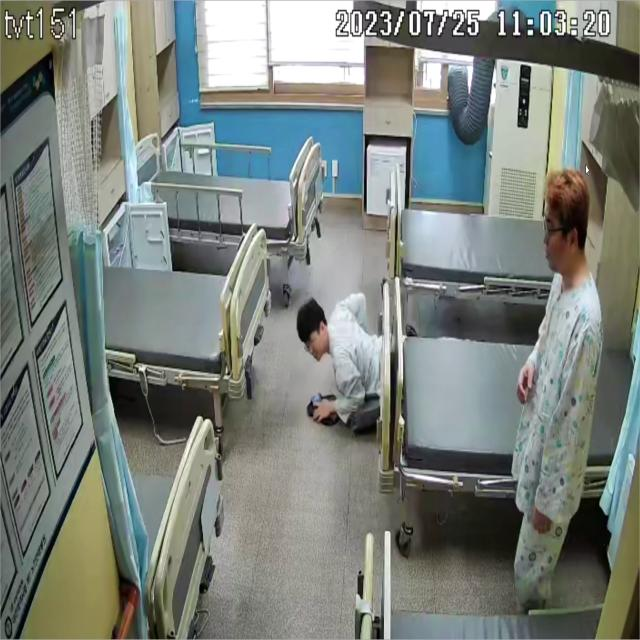bed: (377, 275, 629, 498), (387, 154, 573, 310), (107, 227, 270, 393), (152, 142, 320, 257)
fall: (288, 295, 397, 426)
patient: (516, 172, 602, 608), (286, 294, 401, 428)
